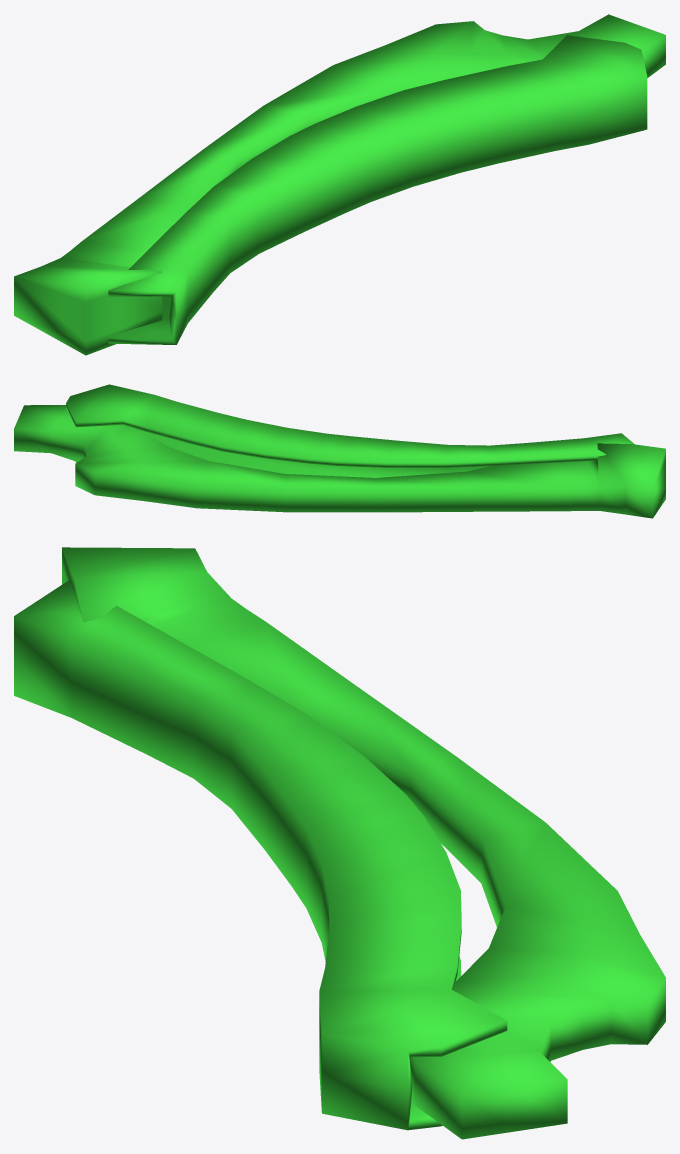
The model's file is SM_Pate_04.fbx.
The picture shows the model from 3 angles, top to bottom: view 1: azimuth 30°, elevation 25°; view 2: azimuth 150°, elevation 25°; view 3: azimuth 270°, elevation 25°; orthographic projection. The views are drawn at different scales.
Visible parts, largest first — view 1: SM_Pate_04; view 2: SM_Pate_04; view 3: SM_Pate_04.
Boxes of the visible parts, x1,y1,x2,y2 form: SM_Pate_04: (14,14,665,355); SM_Pate_04: (14,384,665,518); SM_Pate_04: (14,547,665,1139).
Size of the model in its own units: 1.33 by 0.115 by 0.6802.
